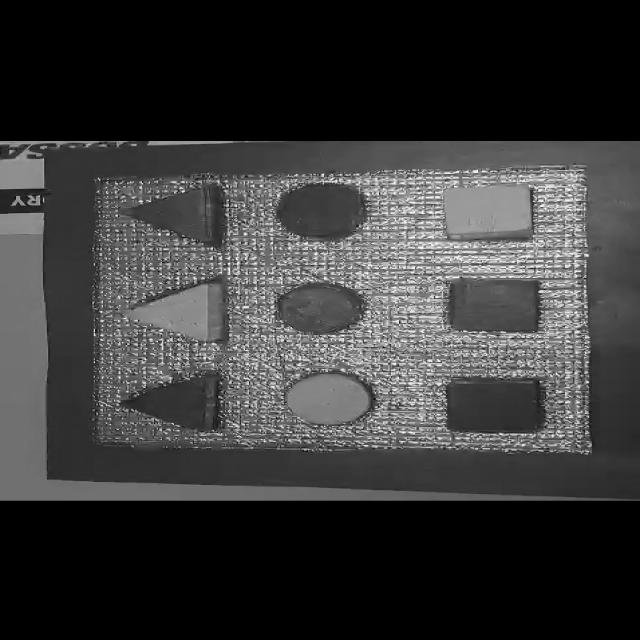bcircle: (265, 174, 389, 242)
bcube: (445, 274, 547, 339)
btriangle: (122, 373, 229, 435)
rcircle: (272, 272, 370, 339)
rcube: (443, 378, 538, 440)
rtriangle: (111, 182, 235, 252)
wb: (95, 170, 588, 450)
ycircle: (281, 370, 380, 431)
ycube: (436, 180, 541, 246)
ytriangle: (128, 282, 227, 348)
